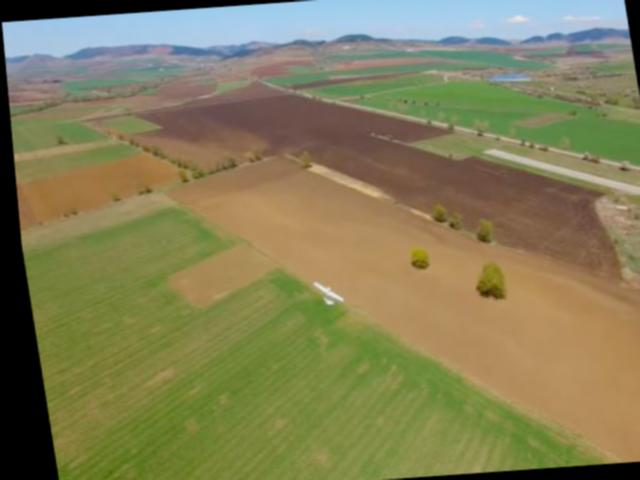uav: (304, 272, 341, 316)
